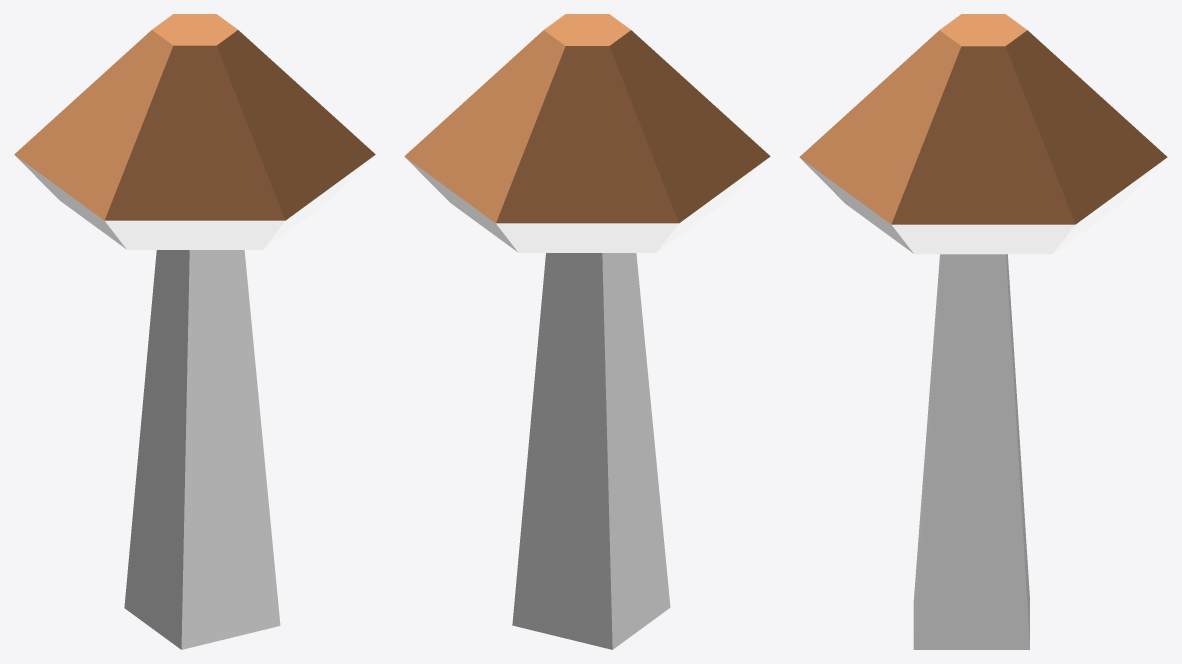
The model's file is mushroom_brownTall.obj.
3 renders of one model, left to right at view 1: azimuth 30°, elevation 25°; view 2: azimuth 150°, elevation 25°; view 3: azimuth 270°, elevation 25°, orthographic.
Parts seen in each view (by area): view 1: mushroom_brownTall; view 2: mushroom_brownTall; view 3: mushroom_brownTall.
Part boxes in pixels (<box>): mushroom_brownTall: <box>14,14,375,649</box>; mushroom_brownTall: <box>404,14,770,649</box>; mushroom_brownTall: <box>799,14,1167,649</box>.
Size of the model in its own units: 0.9881 by 2.03 by 1.14.
